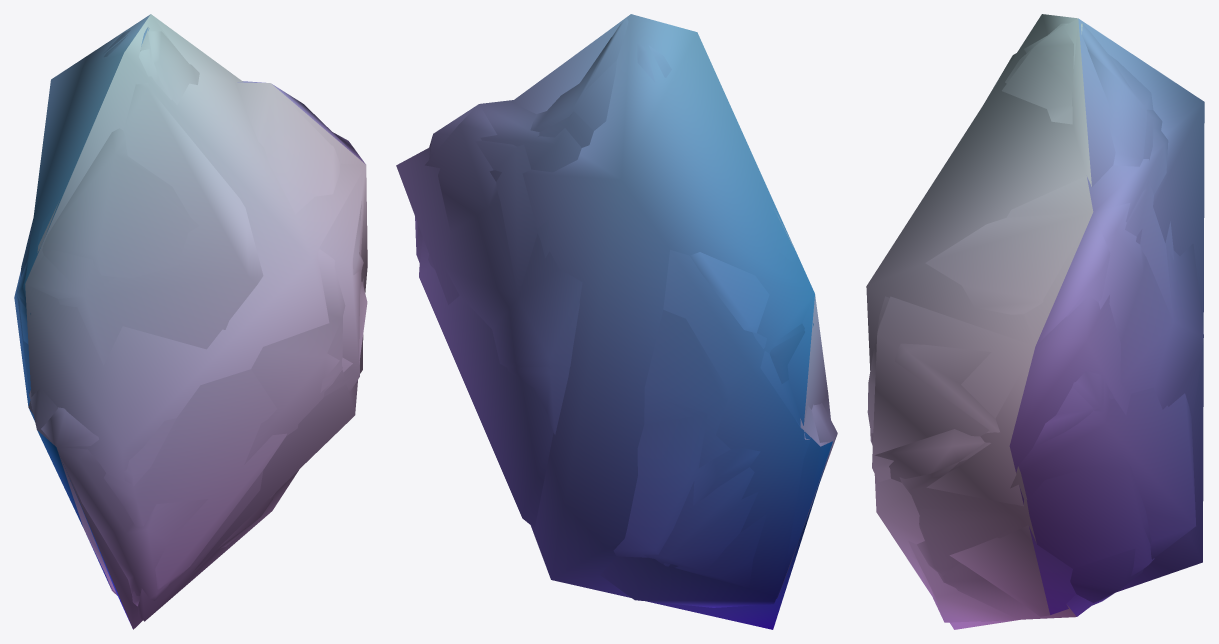
3 views of the same model, side by side, from view 1: azimuth 30°, elevation 25°; view 2: azimuth 150°, elevation 25°; view 3: azimuth 270°, elevation 25° (orthographic). The views are drawn at different scales.
Parts seen in each view (by area): view 1: SM_Roots_03_LOD0; view 2: SM_Roots_03_LOD0; view 3: SM_Roots_03_LOD0.
Part boxes in pixels (bbox=[...]): SM_Roots_03_LOD0: bbox=[14, 14, 367, 629]; SM_Roots_03_LOD0: bbox=[396, 14, 837, 629]; SM_Roots_03_LOD0: bbox=[866, 14, 1204, 629].
Bounding box in the file's own units: 0.9942 × 1.54 × 0.7251.
